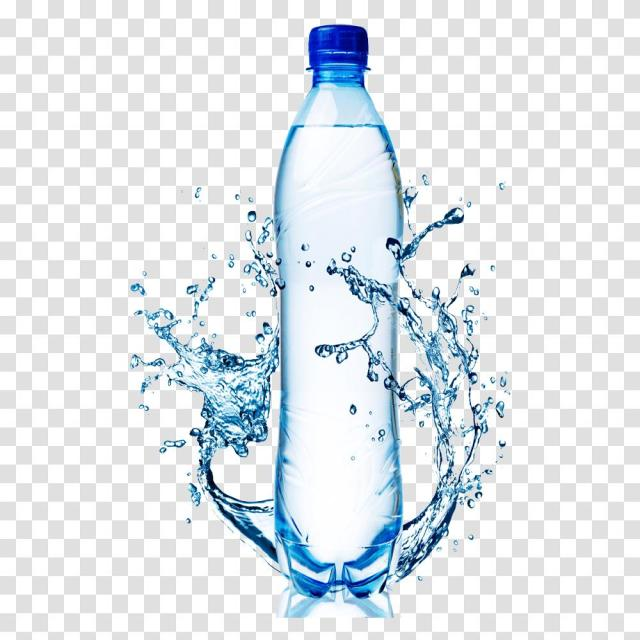bottle: (267, 23, 401, 619)
